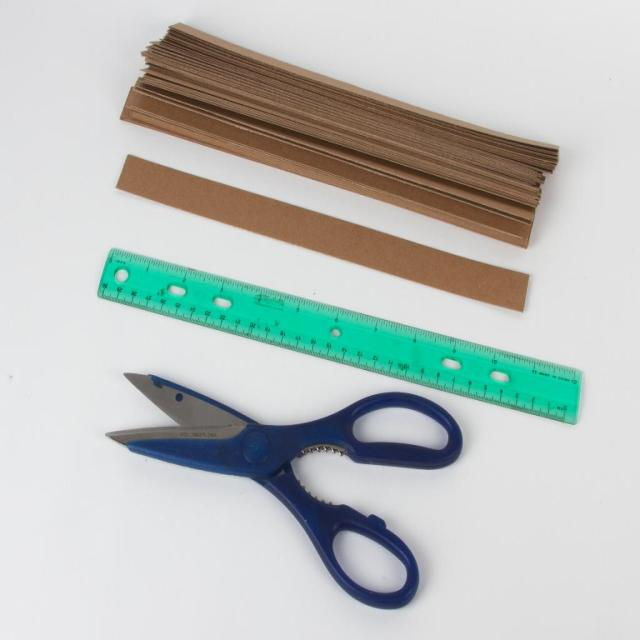scissors: (105, 371, 463, 610)
